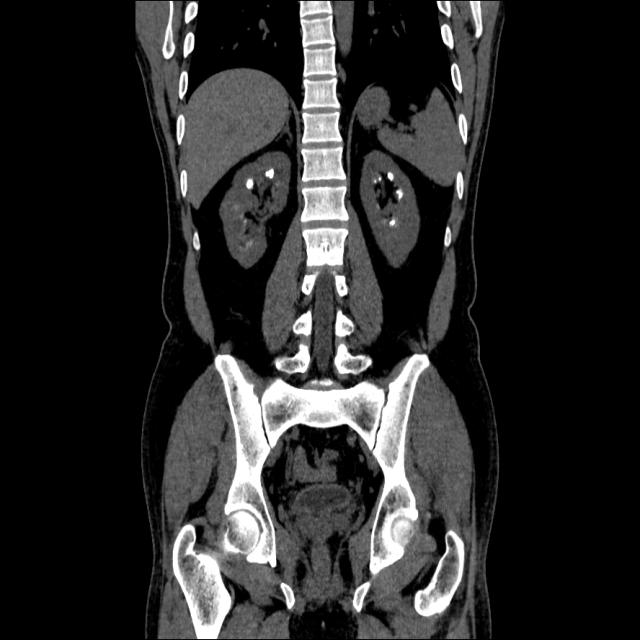kidneystone: (394, 187, 404, 200), (246, 178, 254, 189), (265, 168, 273, 178), (388, 171, 394, 181)
